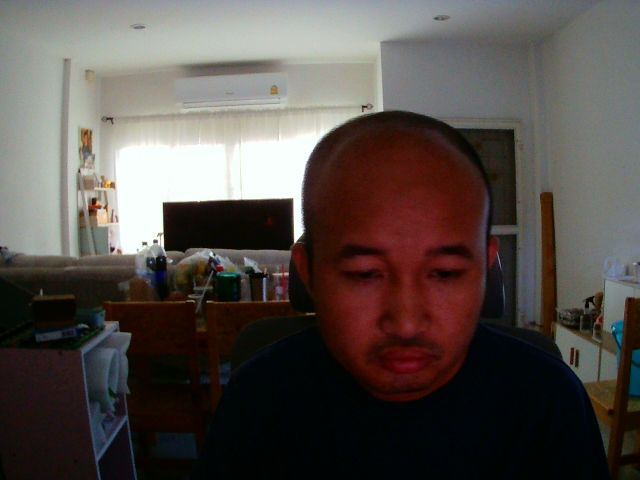face: (296, 109, 492, 395)
